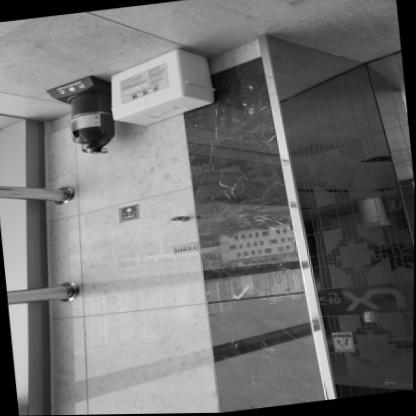DDL: (104, 42, 218, 129)
